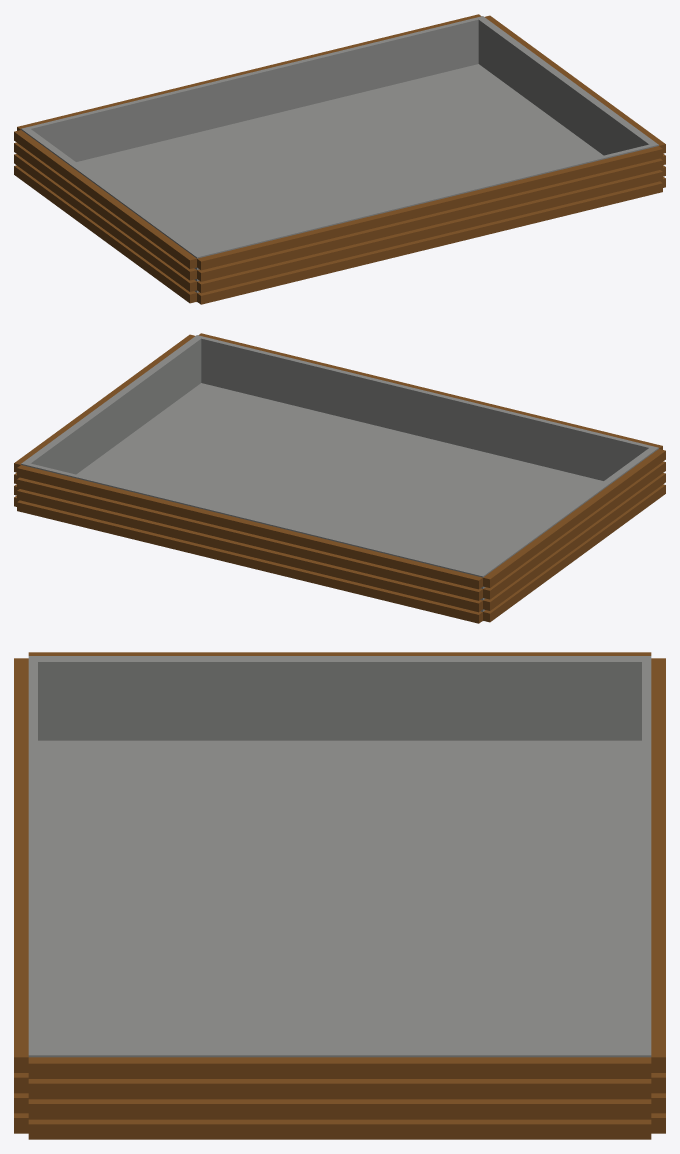
The model's file is tempat penanaman besar.fbx.
The picture shows the model from 3 angles, top to bottom: view 1: azimuth 30°, elevation 25°; view 2: azimuth 150°, elevation 25°; view 3: azimuth 270°, elevation 25°; orthographic projection. The views are drawn at different scales.
Visible parts, largest first — view 1: Cube.027, Cube.023, Cube.024, Cube.026, Cube.025; view 2: Cube.027, Cube.026, Cube.024, Cube.023, Cube.025; view 3: Cube.027, Cube.025, Cube.026, Cube.023, Cube.024.
Part boxes in pixels (x1,y1,x2,y2): Cube.027: (21,16,658,302); Cube.023: (197,146,662,304); Cube.024: (14,130,196,303); Cube.026: (17,14,481,130); Cube.025: (485,15,665,187); Cube.027: (21,335,658,621); Cube.026: (17,465,482,623); Cube.024: (483,449,665,622); Cube.023: (198,333,662,449); Cube.025: (14,334,194,506); Cube.027: (28,656,651,1057); Cube.025: (28,1057,651,1139); Cube.026: (651,658,665,1133); Cube.023: (14,658,28,1133); Cube.024: (28,652,651,655).
Size of the model in its own units: 2762 by 250 by 1850.
